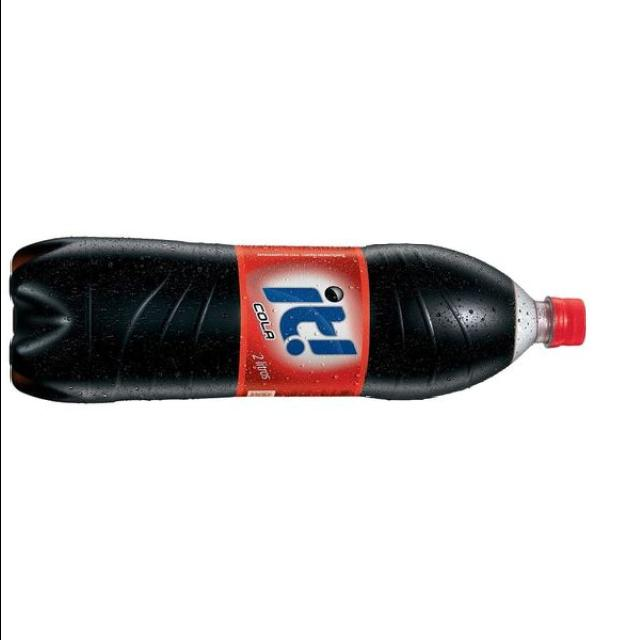bottom: (10, 239, 99, 402)
label: (235, 247, 367, 396)
neck: (365, 245, 584, 397)
